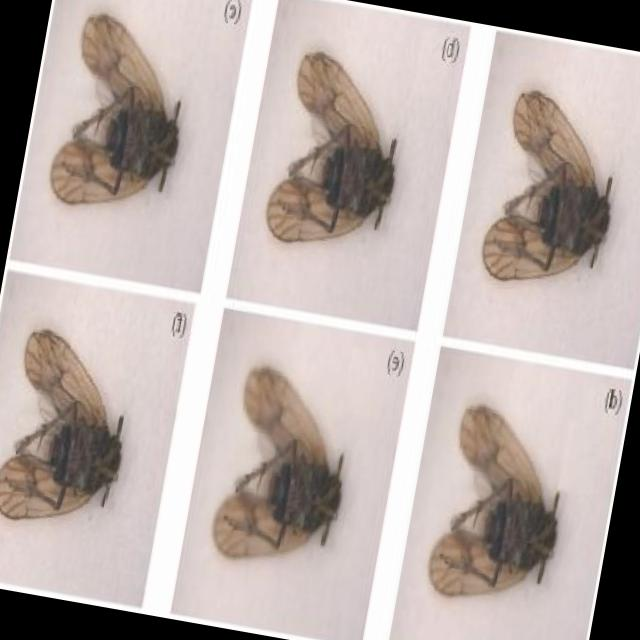brown-planthopper: (472, 70, 636, 304), (207, 347, 363, 574), (418, 395, 577, 614), (262, 36, 416, 262), (44, 0, 197, 215), (0, 319, 140, 543)
